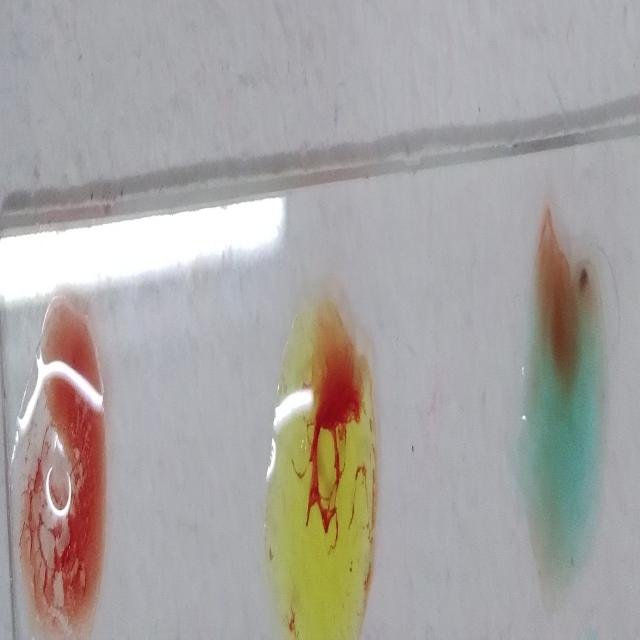B: (270, 298, 374, 640), (14, 298, 107, 640)
